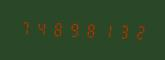eight: (49, 18, 64, 39), (81, 19, 96, 40)
four: (33, 18, 48, 38)
nine: (65, 19, 80, 39)
one: (97, 20, 112, 41)
seven: (17, 17, 32, 38)
three: (113, 21, 128, 41)
two: (129, 21, 144, 42)
